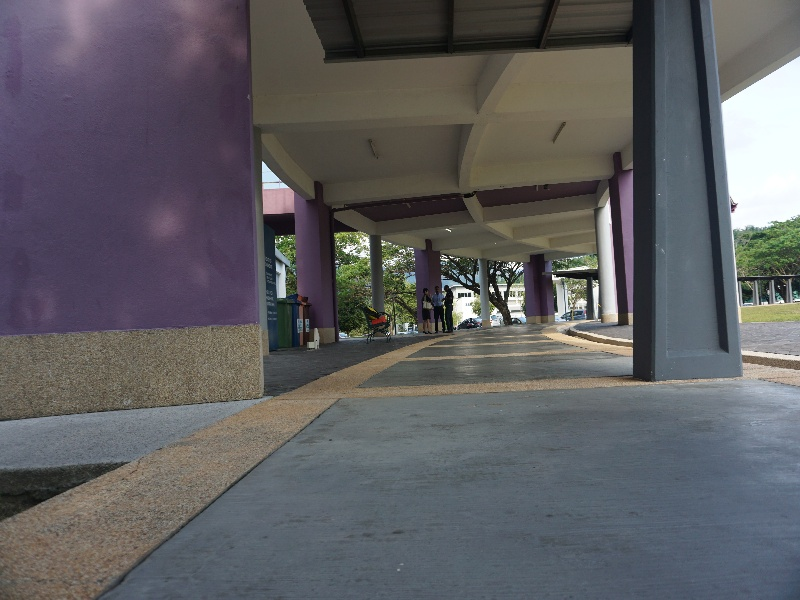Block D Pillar 1: (10, 4, 800, 462)
pillar: (8, 2, 284, 413), (619, 1, 774, 383), (281, 172, 349, 354), (363, 229, 396, 334), (520, 248, 562, 324), (472, 259, 496, 326)
